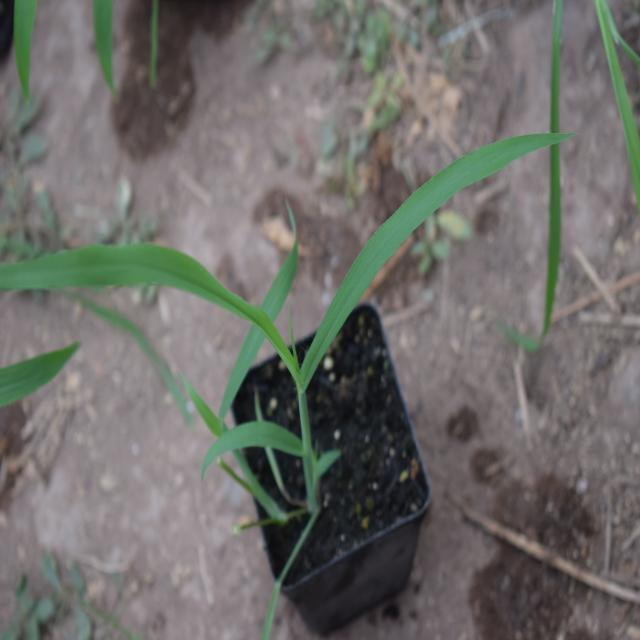crabgrass: (21, 101, 521, 483)
